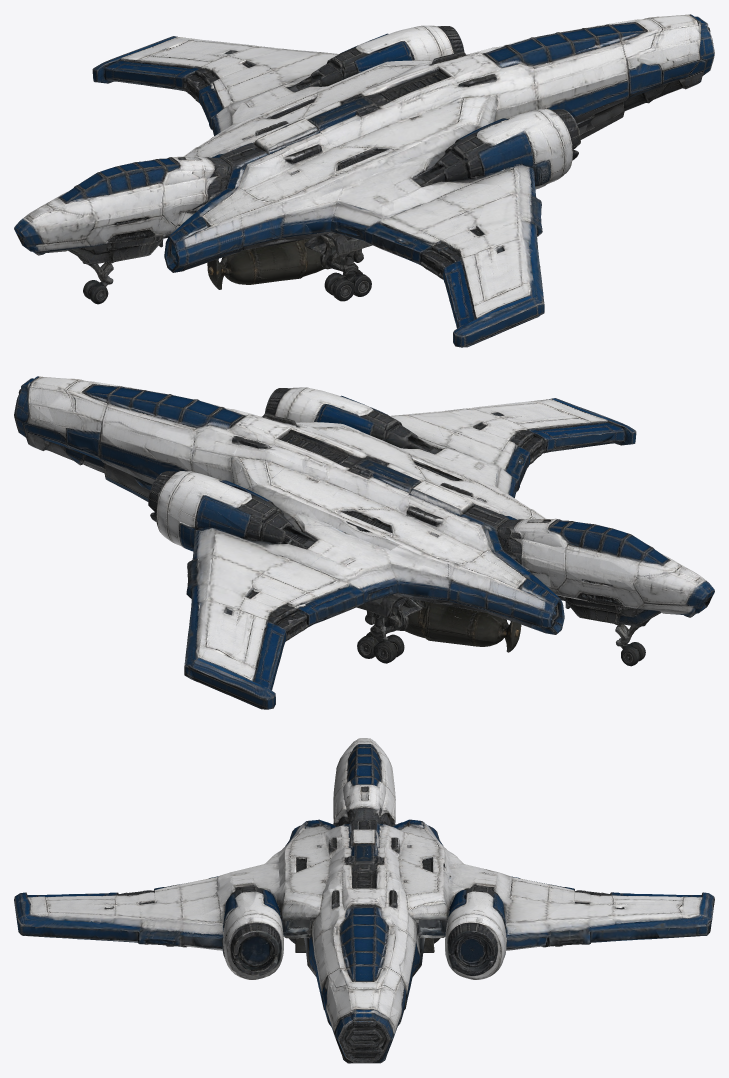
File: albatross-heavy-bomber.glb
3 views of the same model, one above another, from view 1: azimuth 30°, elevation 25°; view 2: azimuth 150°, elevation 25°; view 3: azimuth 270°, elevation 25° (orthographic). The views are drawn at different scales.
Visible parts, largest first — view 1: Hull; view 2: Hull; view 3: Hull.
Part boxes in pixels (x1,y1,x2,y2): Hull: (14,14,714,347); Hull: (14,376,714,709); Hull: (14,738,714,1063).
Bounding box in the file's own units: 1.9 × 0.4123 × 1.77.
Materials: 1 (1 with a texture image).
